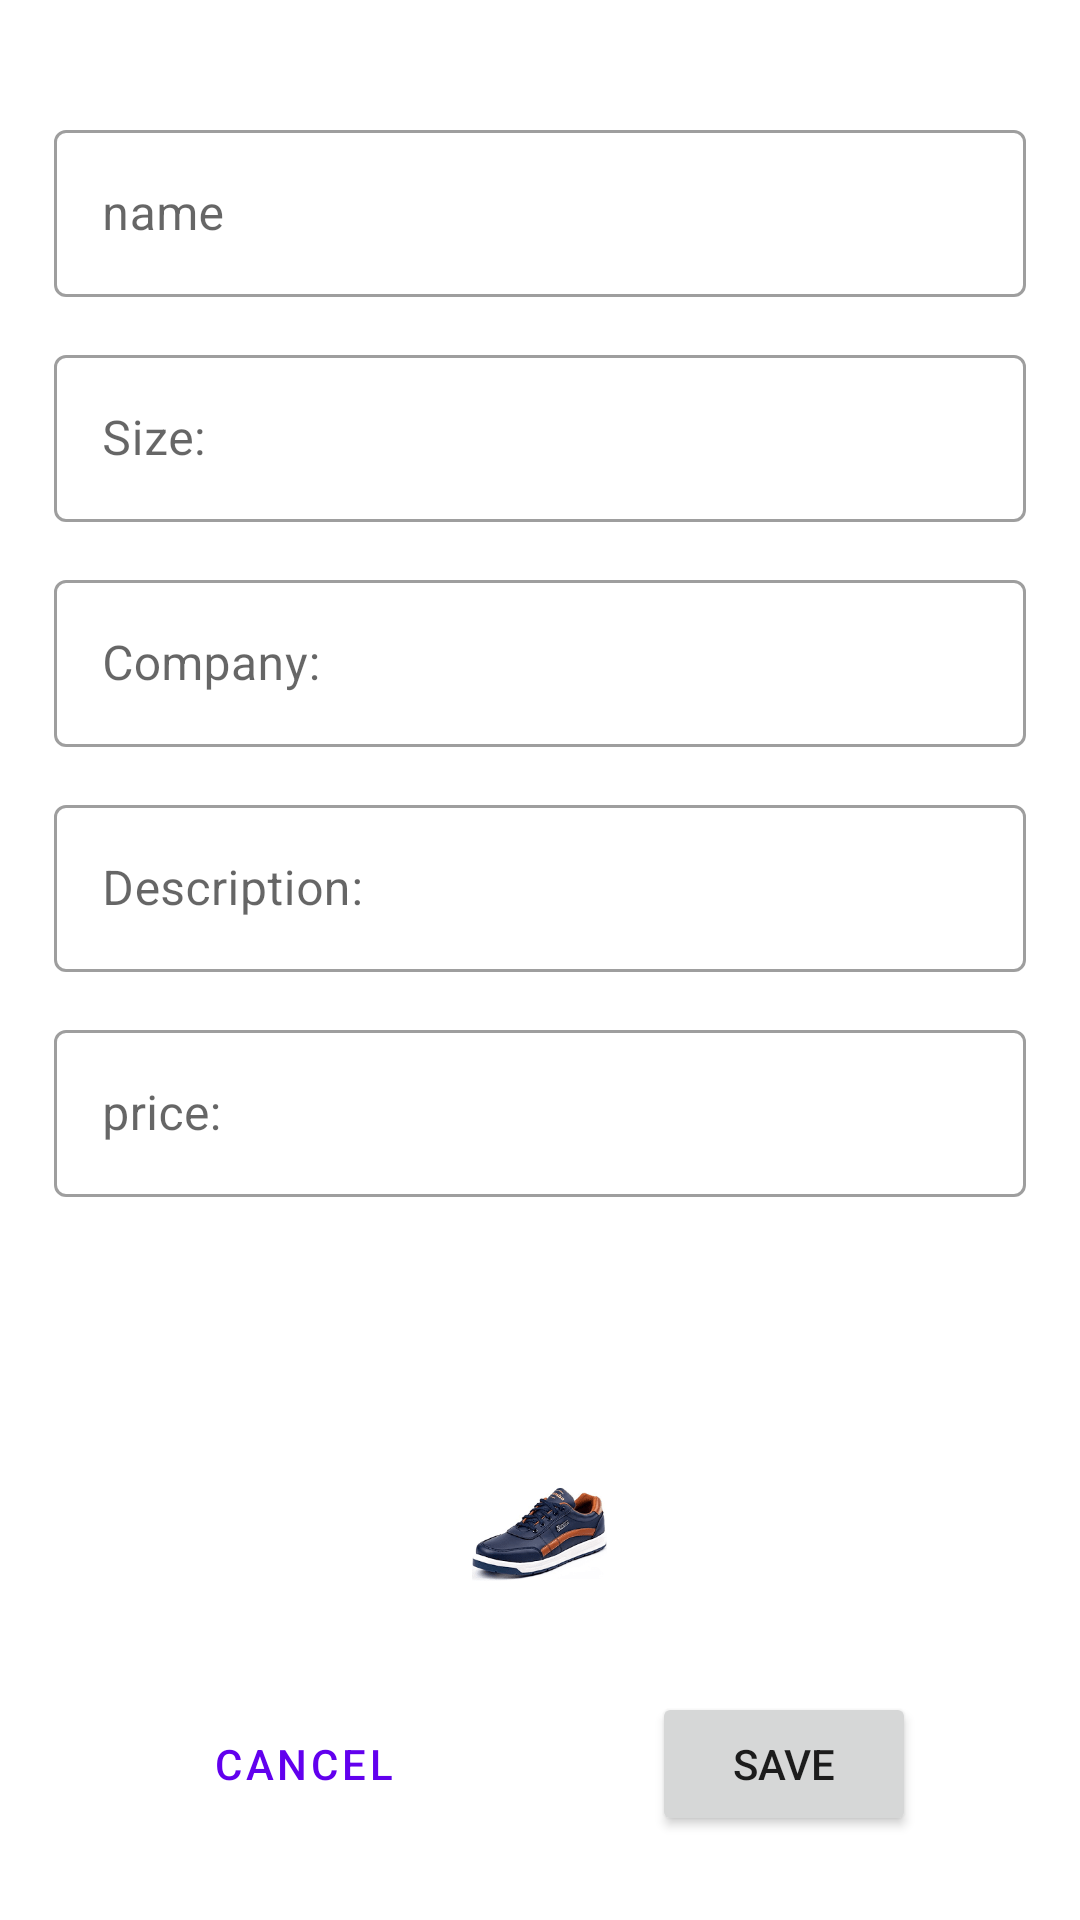

Icons on this 1080 x 1920 Android screen, each with its box as detection(x1, y1, x2, y2):
shoe: detection(472, 1488, 607, 1580)
